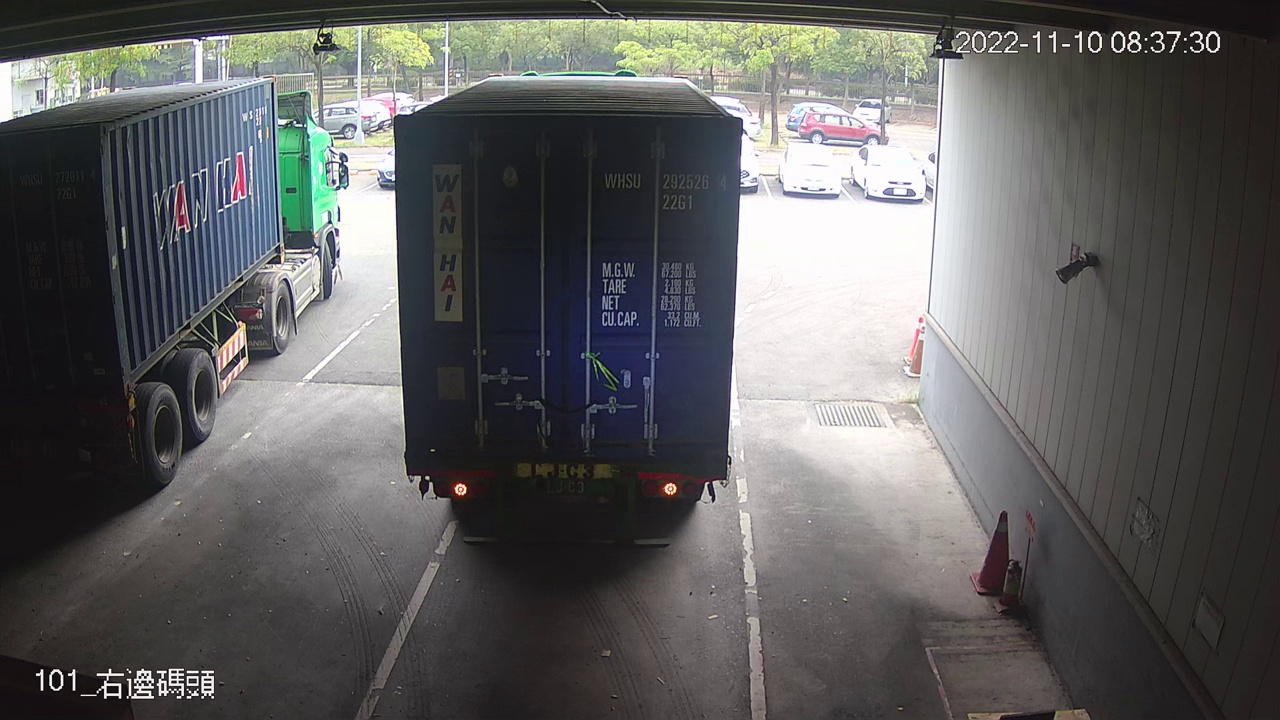container: (598, 165, 733, 215)
